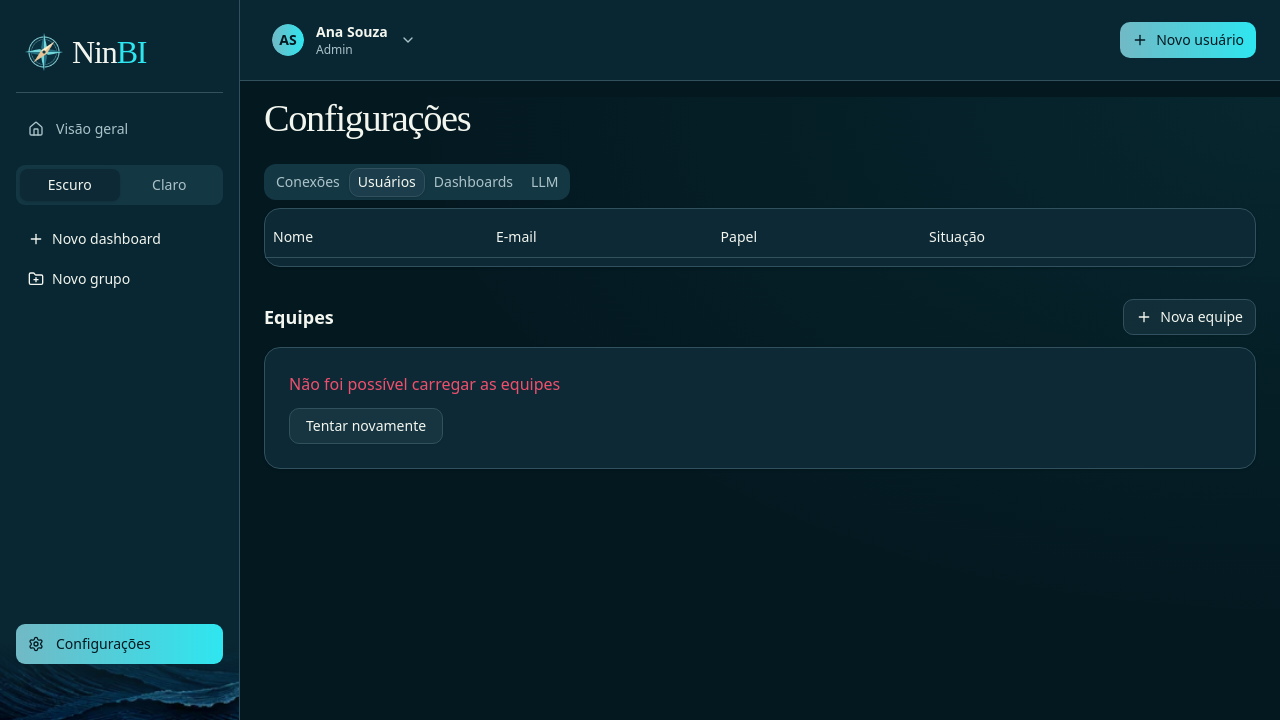
Test: TeamsSection › TEAM-10 erro nas equipes mostra Não foi possível carregar as equipes e Tentar novamente recarrega
This screenshot has width=1280, height=720.
Expected: the text "Não foi possível carregar as equipes" is shown, x1=289 y1=372 x2=560 y2=396
Click the button "Tentar novamente": (366, 426) x1=289 y1=408 x2=443 y2=444
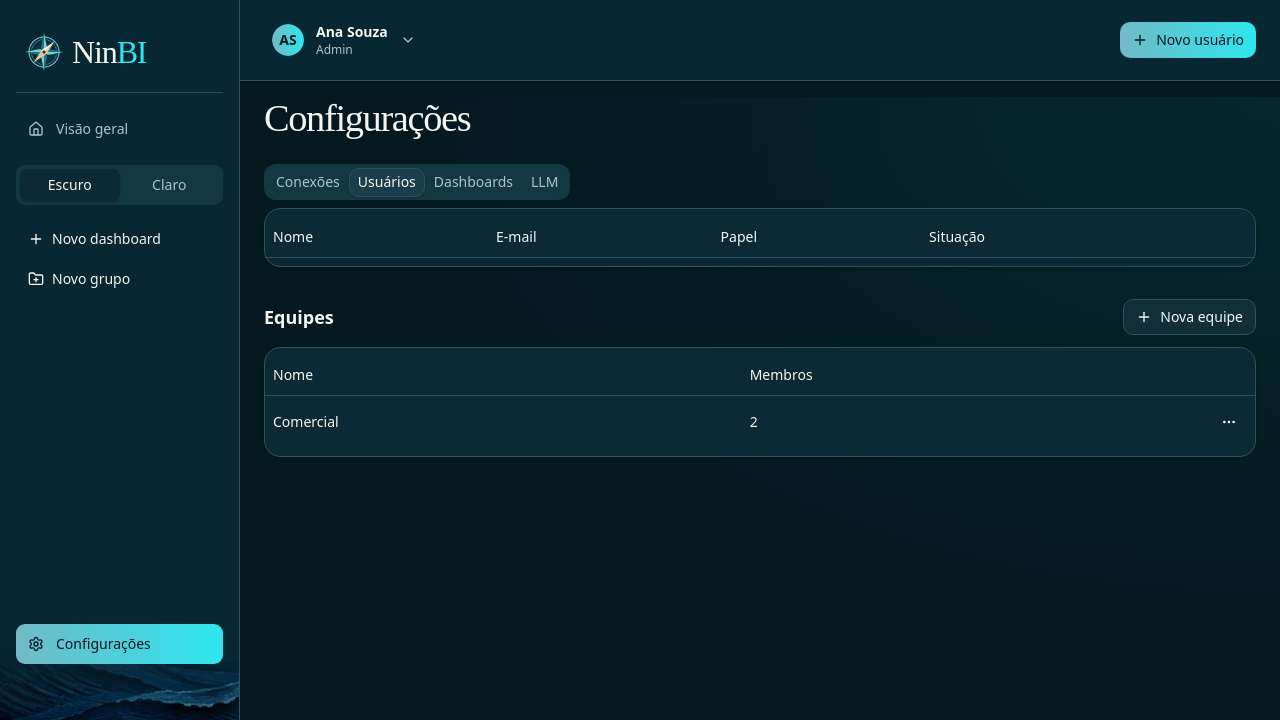
Expected: the text "Comercial" is shown, x1=265 y1=396 x2=742 y2=448
Expected: the text "Não foi possível carregar as equipes" is gone
